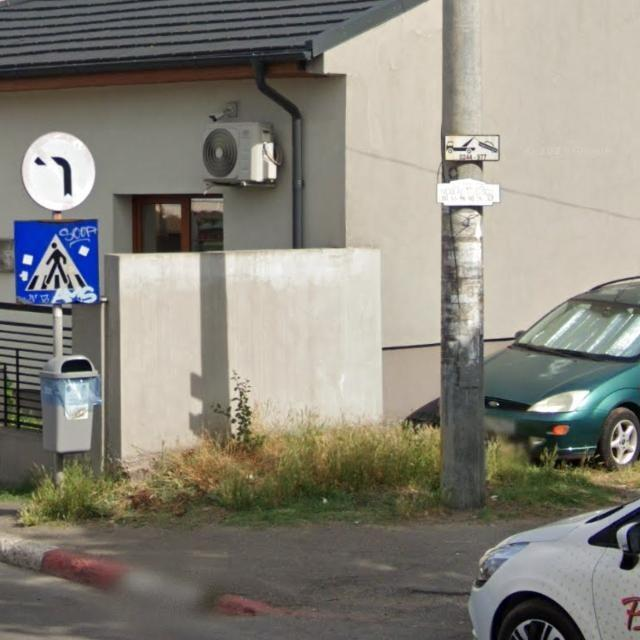info_crosswalk: (13, 223, 102, 307)
